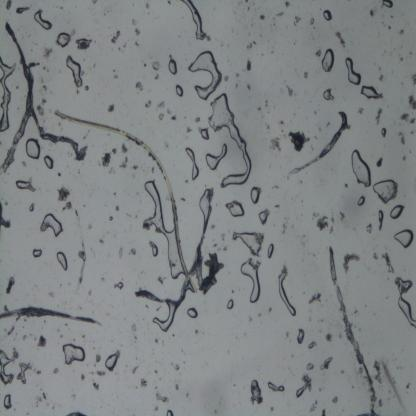Air bubble: (140, 180, 182, 280), (210, 95, 252, 186), (189, 50, 222, 100), (0, 57, 16, 131), (182, 0, 208, 43), (395, 277, 416, 329), (240, 259, 262, 305), (278, 271, 297, 317), (350, 150, 372, 189), (152, 303, 180, 332), (233, 230, 262, 258), (204, 143, 228, 171), (65, 54, 84, 89), (60, 343, 86, 368), (372, 179, 399, 203), (40, 214, 64, 238), (0, 350, 16, 385), (185, 146, 199, 182), (198, 189, 214, 220), (346, 57, 362, 86), (35, 8, 52, 32), (394, 228, 414, 248), (15, 177, 38, 193), (225, 200, 245, 218), (361, 85, 384, 100), (18, 361, 31, 387), (321, 49, 335, 73), (26, 138, 40, 159), (389, 202, 404, 220), (105, 353, 119, 372), (56, 251, 68, 272), (166, 58, 178, 77), (57, 32, 71, 47), (294, 384, 308, 399), (249, 188, 262, 204), (267, 382, 285, 393), (42, 154, 54, 170), (376, 206, 384, 230), (2, 392, 12, 411), (149, 240, 159, 258), (355, 194, 368, 207), (297, 327, 305, 347), (200, 128, 211, 142), (258, 211, 268, 225), (174, 84, 184, 98), (266, 243, 275, 258), (382, 0, 394, 10), (226, 297, 235, 310), (187, 308, 198, 318), (32, 247, 42, 257), (115, 281, 124, 290), (382, 125, 388, 138), (28, 202, 34, 214), (166, 410, 174, 416), (84, 85, 89, 91)
Background material: (199, 253, 225, 293), (341, 252, 362, 276), (56, 186, 74, 213), (313, 212, 335, 233), (248, 379, 264, 407), (397, 110, 416, 127), (0, 202, 10, 230), (382, 253, 396, 273), (372, 360, 383, 385), (334, 29, 346, 50), (269, 134, 283, 152), (76, 36, 94, 50), (98, 150, 112, 168), (155, 390, 170, 406), (306, 291, 324, 304), (301, 371, 312, 392), (34, 390, 46, 408), (396, 130, 408, 147), (375, 106, 384, 128), (277, 114, 285, 138), (156, 101, 166, 120), (130, 323, 139, 344), (5, 276, 15, 294), (42, 45, 54, 60), (320, 354, 332, 369), (322, 87, 335, 100), (166, 108, 178, 122), (322, 8, 334, 22), (110, 30, 122, 44), (407, 92, 416, 110), (15, 5, 31, 15), (119, 157, 130, 171), (37, 334, 47, 349), (132, 20, 140, 38), (139, 376, 148, 392), (286, 84, 296, 98), (245, 39, 257, 50), (64, 409, 86, 415), (307, 338, 317, 351), (37, 104, 46, 118), (309, 399, 318, 413), (324, 331, 333, 345), (292, 14, 302, 26), (107, 102, 116, 115), (410, 70, 416, 89), (376, 155, 384, 169), (92, 380, 100, 394), (134, 82, 145, 92), (305, 360, 314, 372), (274, 200, 283, 212), (120, 142, 129, 154), (131, 364, 139, 377), (366, 219, 372, 236), (152, 61, 161, 72), (246, 59, 253, 73), (144, 98, 152, 110), (370, 6, 378, 18), (258, 12, 267, 22), (110, 146, 119, 156), (96, 368, 106, 376), (339, 211, 346, 222), (33, 368, 42, 376), (284, 1, 292, 10), (222, 74, 231, 82), (308, 16, 316, 25), (6, 0, 12, 12), (133, 164, 140, 174), (96, 353, 102, 364), (119, 247, 124, 260), (130, 248, 138, 256), (174, 362, 180, 372), (316, 47, 322, 57), (283, 218, 286, 238), (246, 82, 252, 92), (379, 72, 384, 84), (153, 73, 160, 81), (332, 395, 338, 404), (302, 71, 308, 79), (186, 125, 192, 133), (80, 373, 85, 382), (272, 184, 278, 191), (194, 328, 199, 336), (53, 368, 58, 376), (399, 28, 404, 35), (278, 14, 284, 18), (110, 217, 114, 222), (116, 206, 119, 211)
Cellulose filter fibre: (328, 245, 379, 414), (135, 193, 213, 302), (3, 22, 34, 173), (288, 114, 348, 178), (30, 110, 86, 159), (0, 306, 102, 326), (74, 208, 88, 289)
Microfibre: (54, 110, 195, 291)
